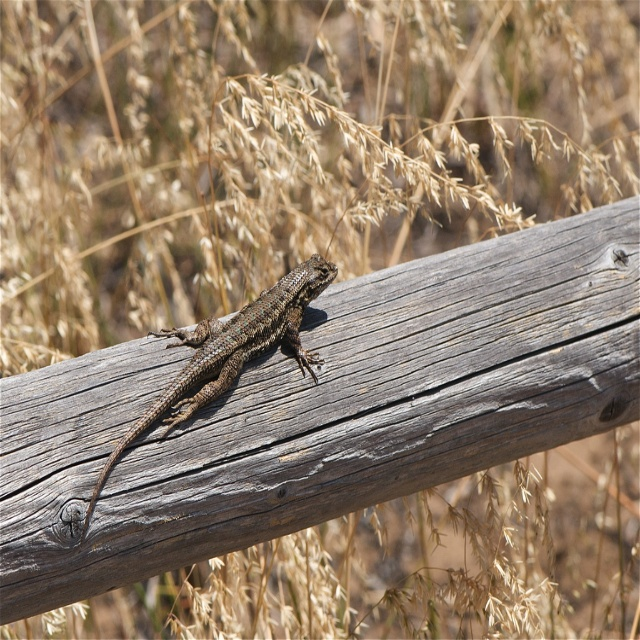Lizard: (79, 251, 340, 529)
